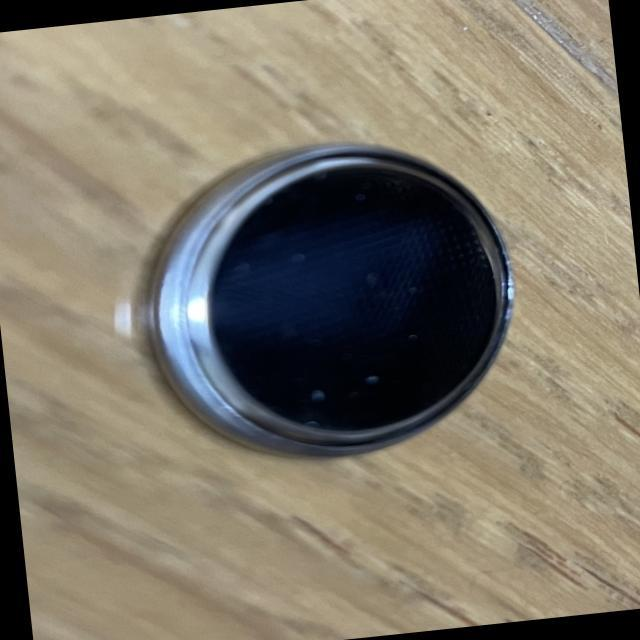COIN: (113, 124, 530, 476)
